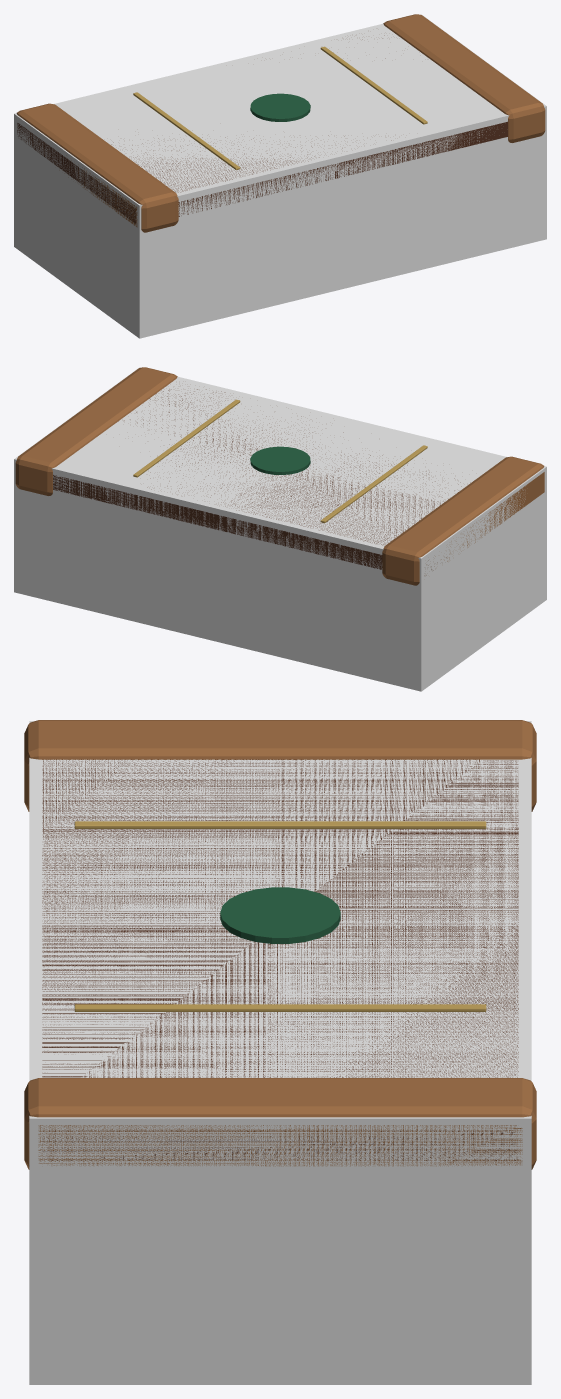
File: executive.glb
The picture shows the model from 3 angles, top to bottom: view 1: azimuth 30°, elevation 25°; view 2: azimuth 150°, elevation 25°; view 3: azimuth 270°, elevation 25°; orthographic projection. The views are drawn at different scales.
Visible parts, largest first — view 1: COL_COFFEE_TABLES_EXECUTIVE, Table_BreadboardEnd, Table_Top.004, Table_BreadboardEnd.001, Table_CenterMedallion, Table_Inlay.002, Table_Inlay.003; view 2: COL_COFFEE_TABLES_EXECUTIVE, Table_Top.004, Table_BreadboardEnd, Table_BreadboardEnd.001, Table_CenterMedallion, Table_Inlay.002, Table_Inlay.003; view 3: COL_COFFEE_TABLES_EXECUTIVE, Table_Top.004, Table_BreadboardEnd.001, Table_BreadboardEnd, Table_CenterMedallion, Table_Inlay.002, Table_Inlay.003.
Boxes of the visible parts, x1,y1,x2,y2 form: COL_COFFEE_TABLES_EXECUTIVE: (14,14,546,338); Table_BreadboardEnd: (16,103,178,232); Table_Top.004: (17,35,507,223); Table_BreadboardEnd.001: (383,14,545,142); Table_CenterMedallion: (250,93,310,121); Table_Inlay.002: (133,92,240,170); Table_Inlay.003: (320,46,427,124); COL_COFFEE_TABLES_EXECUTIVE: (14,367,546,691); Table_Top.004: (53,389,470,575); Table_BreadboardEnd: (382,456,544,585); Table_BreadboardEnd.001: (15,367,177,495); Table_CenterMedallion: (250,446,310,474); Table_Inlay.002: (320,445,427,523); Table_Inlay.003: (133,399,240,477); COL_COFFEE_TABLES_EXECUTIVE: (29,721,531,1384); Table_Top.004: (42,759,518,1160); Table_BreadboardEnd.001: (24,1078,536,1169); Table_BreadboardEnd: (24,720,536,811); Table_CenterMedallion: (220,887,340,943); Table_Inlay.002: (74,821,486,828); Table_Inlay.003: (74,1004,486,1011).
Size of the model in its own units: 1.66 by 0.531 by 0.9017.
